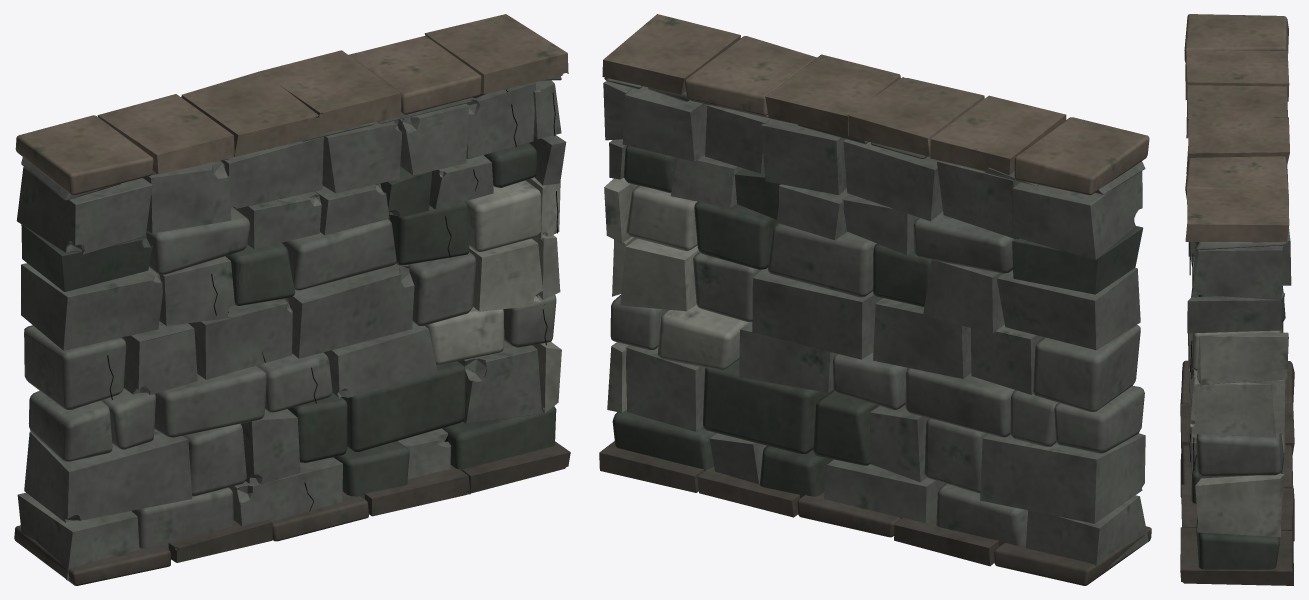
Rendered from wall.glb.
3 views of the same model, side by side, from view 1: azimuth 30°, elevation 25°; view 2: azimuth 150°, elevation 25°; view 3: azimuth 270°, elevation 25° (orthographic). The views are drawn at different scales.
Visible parts, largest first — view 1: Body_Baked.029; view 2: Body_Baked.029; view 3: Body_Baked.029.
Part boxes in pixels (<box>): Body_Baked.029: <box>14,14,570,585</box>; Body_Baked.029: <box>599,14,1151,585</box>; Body_Baked.029: <box>1180,14,1294,585</box>.
Size of the model in its own units: 4.23 by 3.38 by 0.9625.
1 material, 1 textured.
